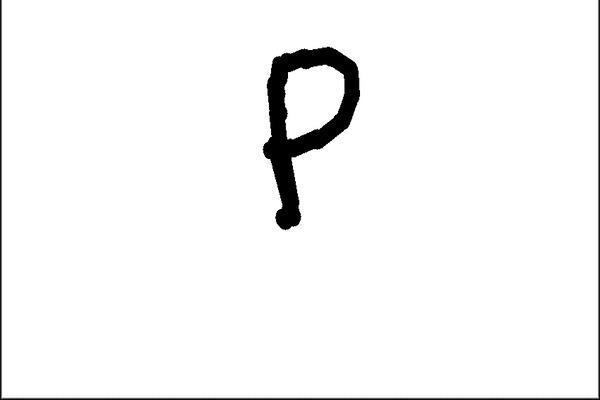P: (245, 29, 364, 246)
